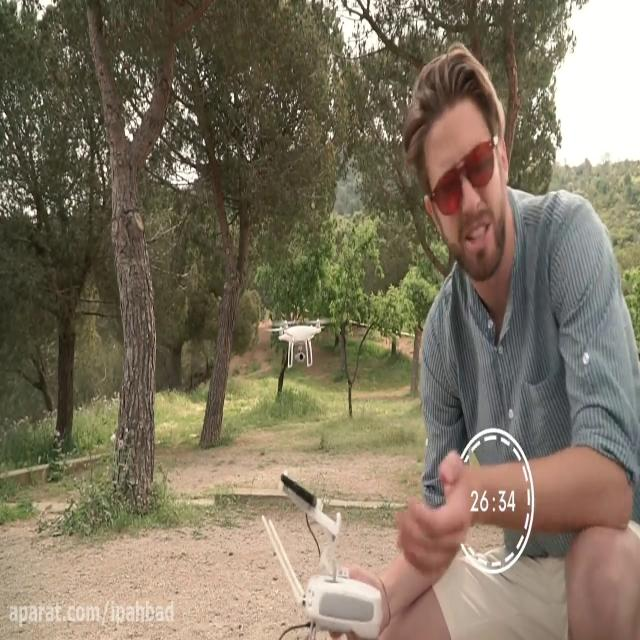drone: (264, 312, 332, 372)
